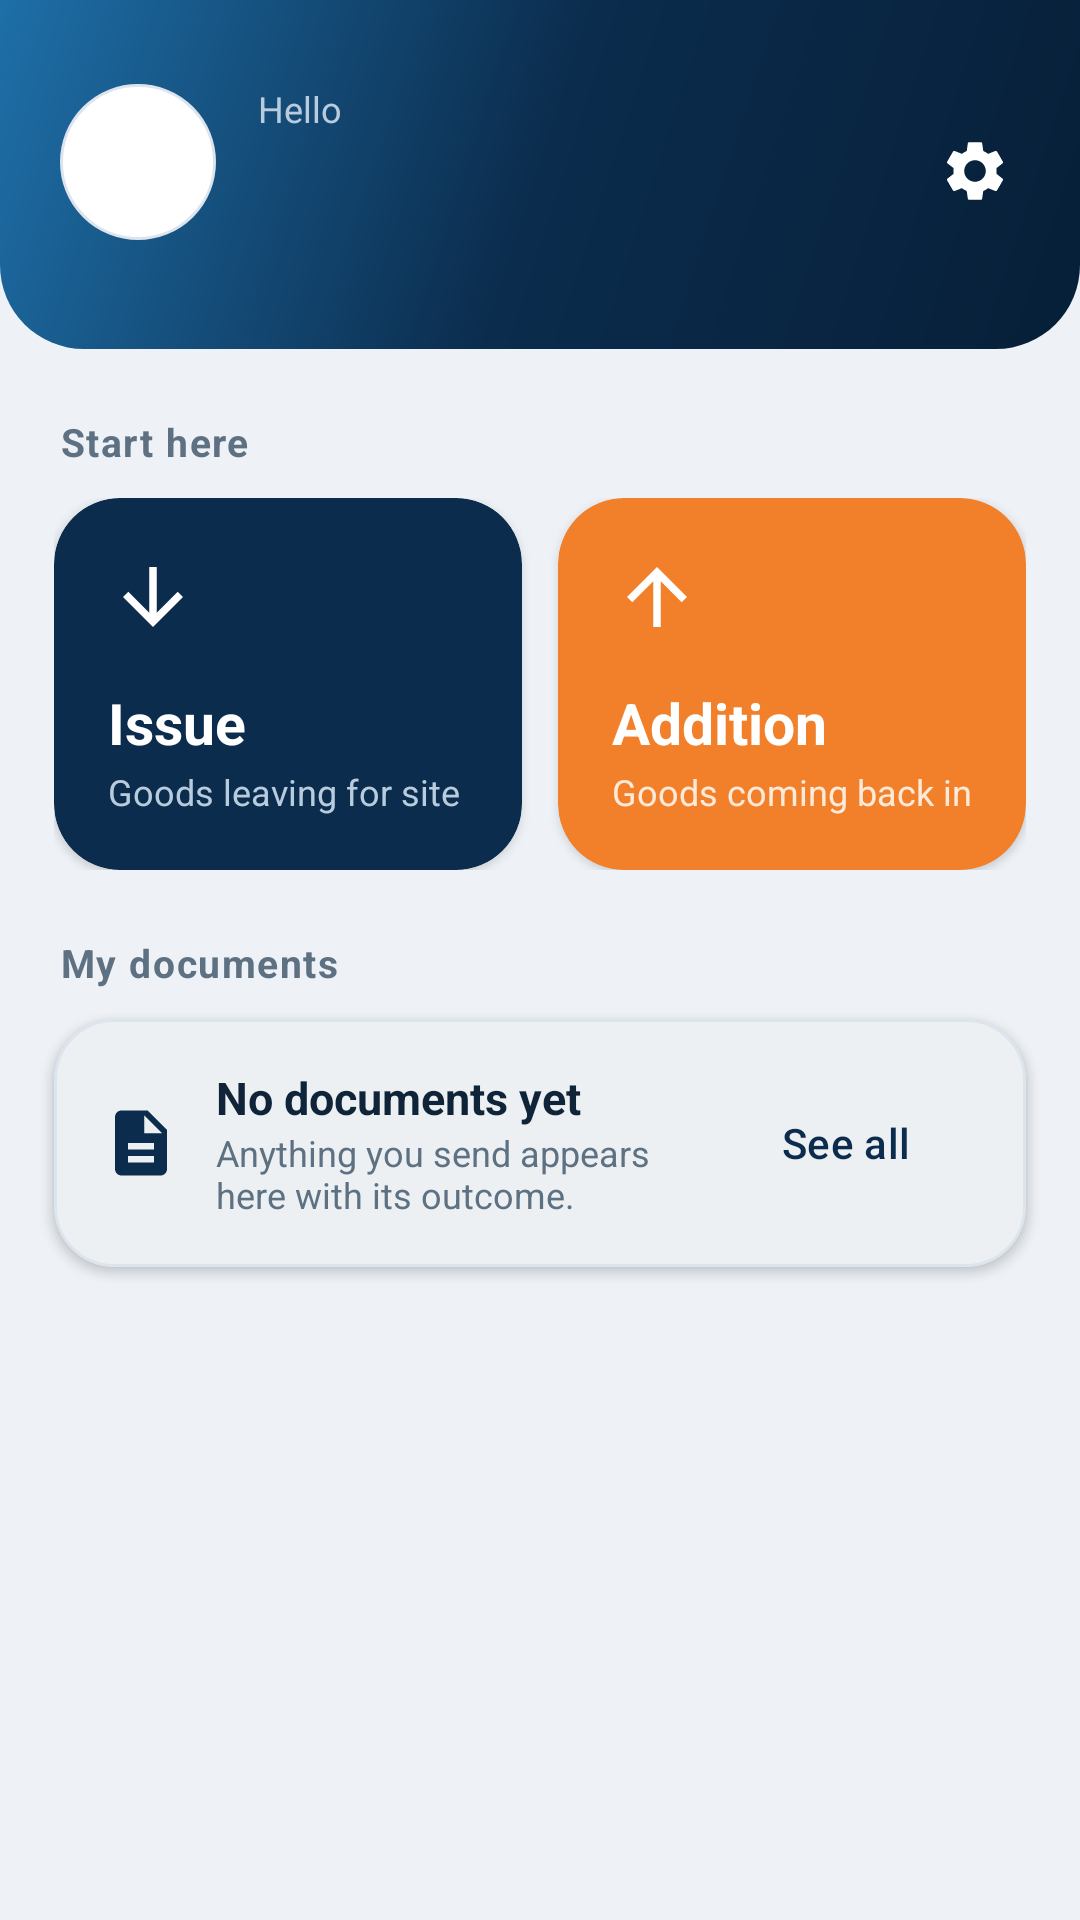

Screen size 1080x1920. Icon name, then its center in pixels as (x,y):
Settings: (975,171)
